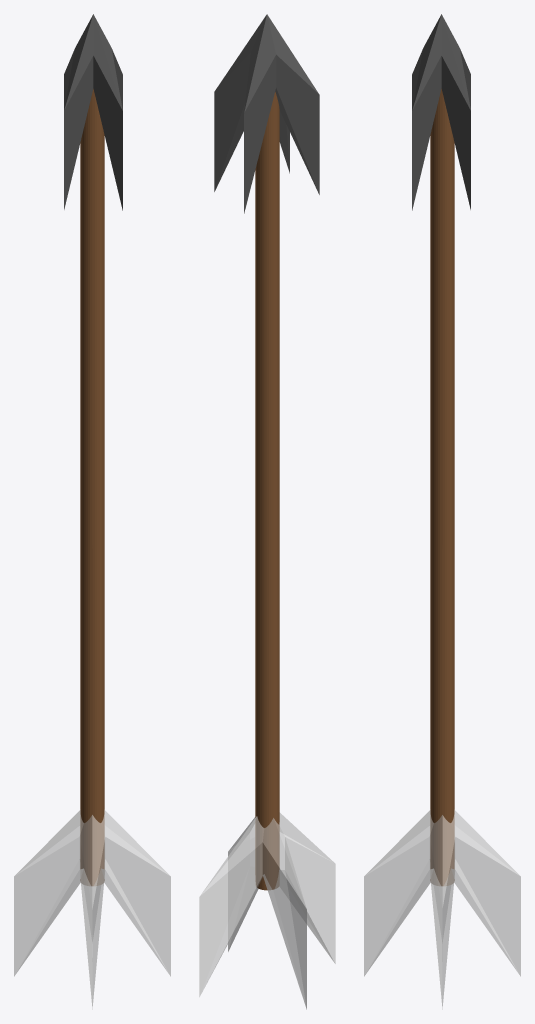
The picture shows the model from 3 angles, left to right: view 1: azimuth 90°, elevation 25°; view 2: azimuth 210°, elevation 25°; view 3: azimuth 270°, elevation 25°; orthographic projection.
Parts seen in each view (by area): view 1: Cylinder, Cube.002, Cube; view 2: Cylinder, Cube.002, Cube; view 3: Cylinder, Cube.002, Cube.
Boxes of the visible parts, x1,y1,x2,y2 form: Cylinder: [80, 89, 104, 886]; Cube.002: [14, 810, 170, 1009]; Cube: [64, 14, 122, 210]; Cylinder: [255, 92, 279, 890]; Cube.002: [199, 812, 335, 1009]; Cube: [214, 14, 319, 213]; Cylinder: [430, 89, 454, 886]; Cube.002: [364, 810, 520, 1009]; Cube: [412, 14, 470, 210].
Bounding box in the file's own units: 283 × 1918 × 283.
